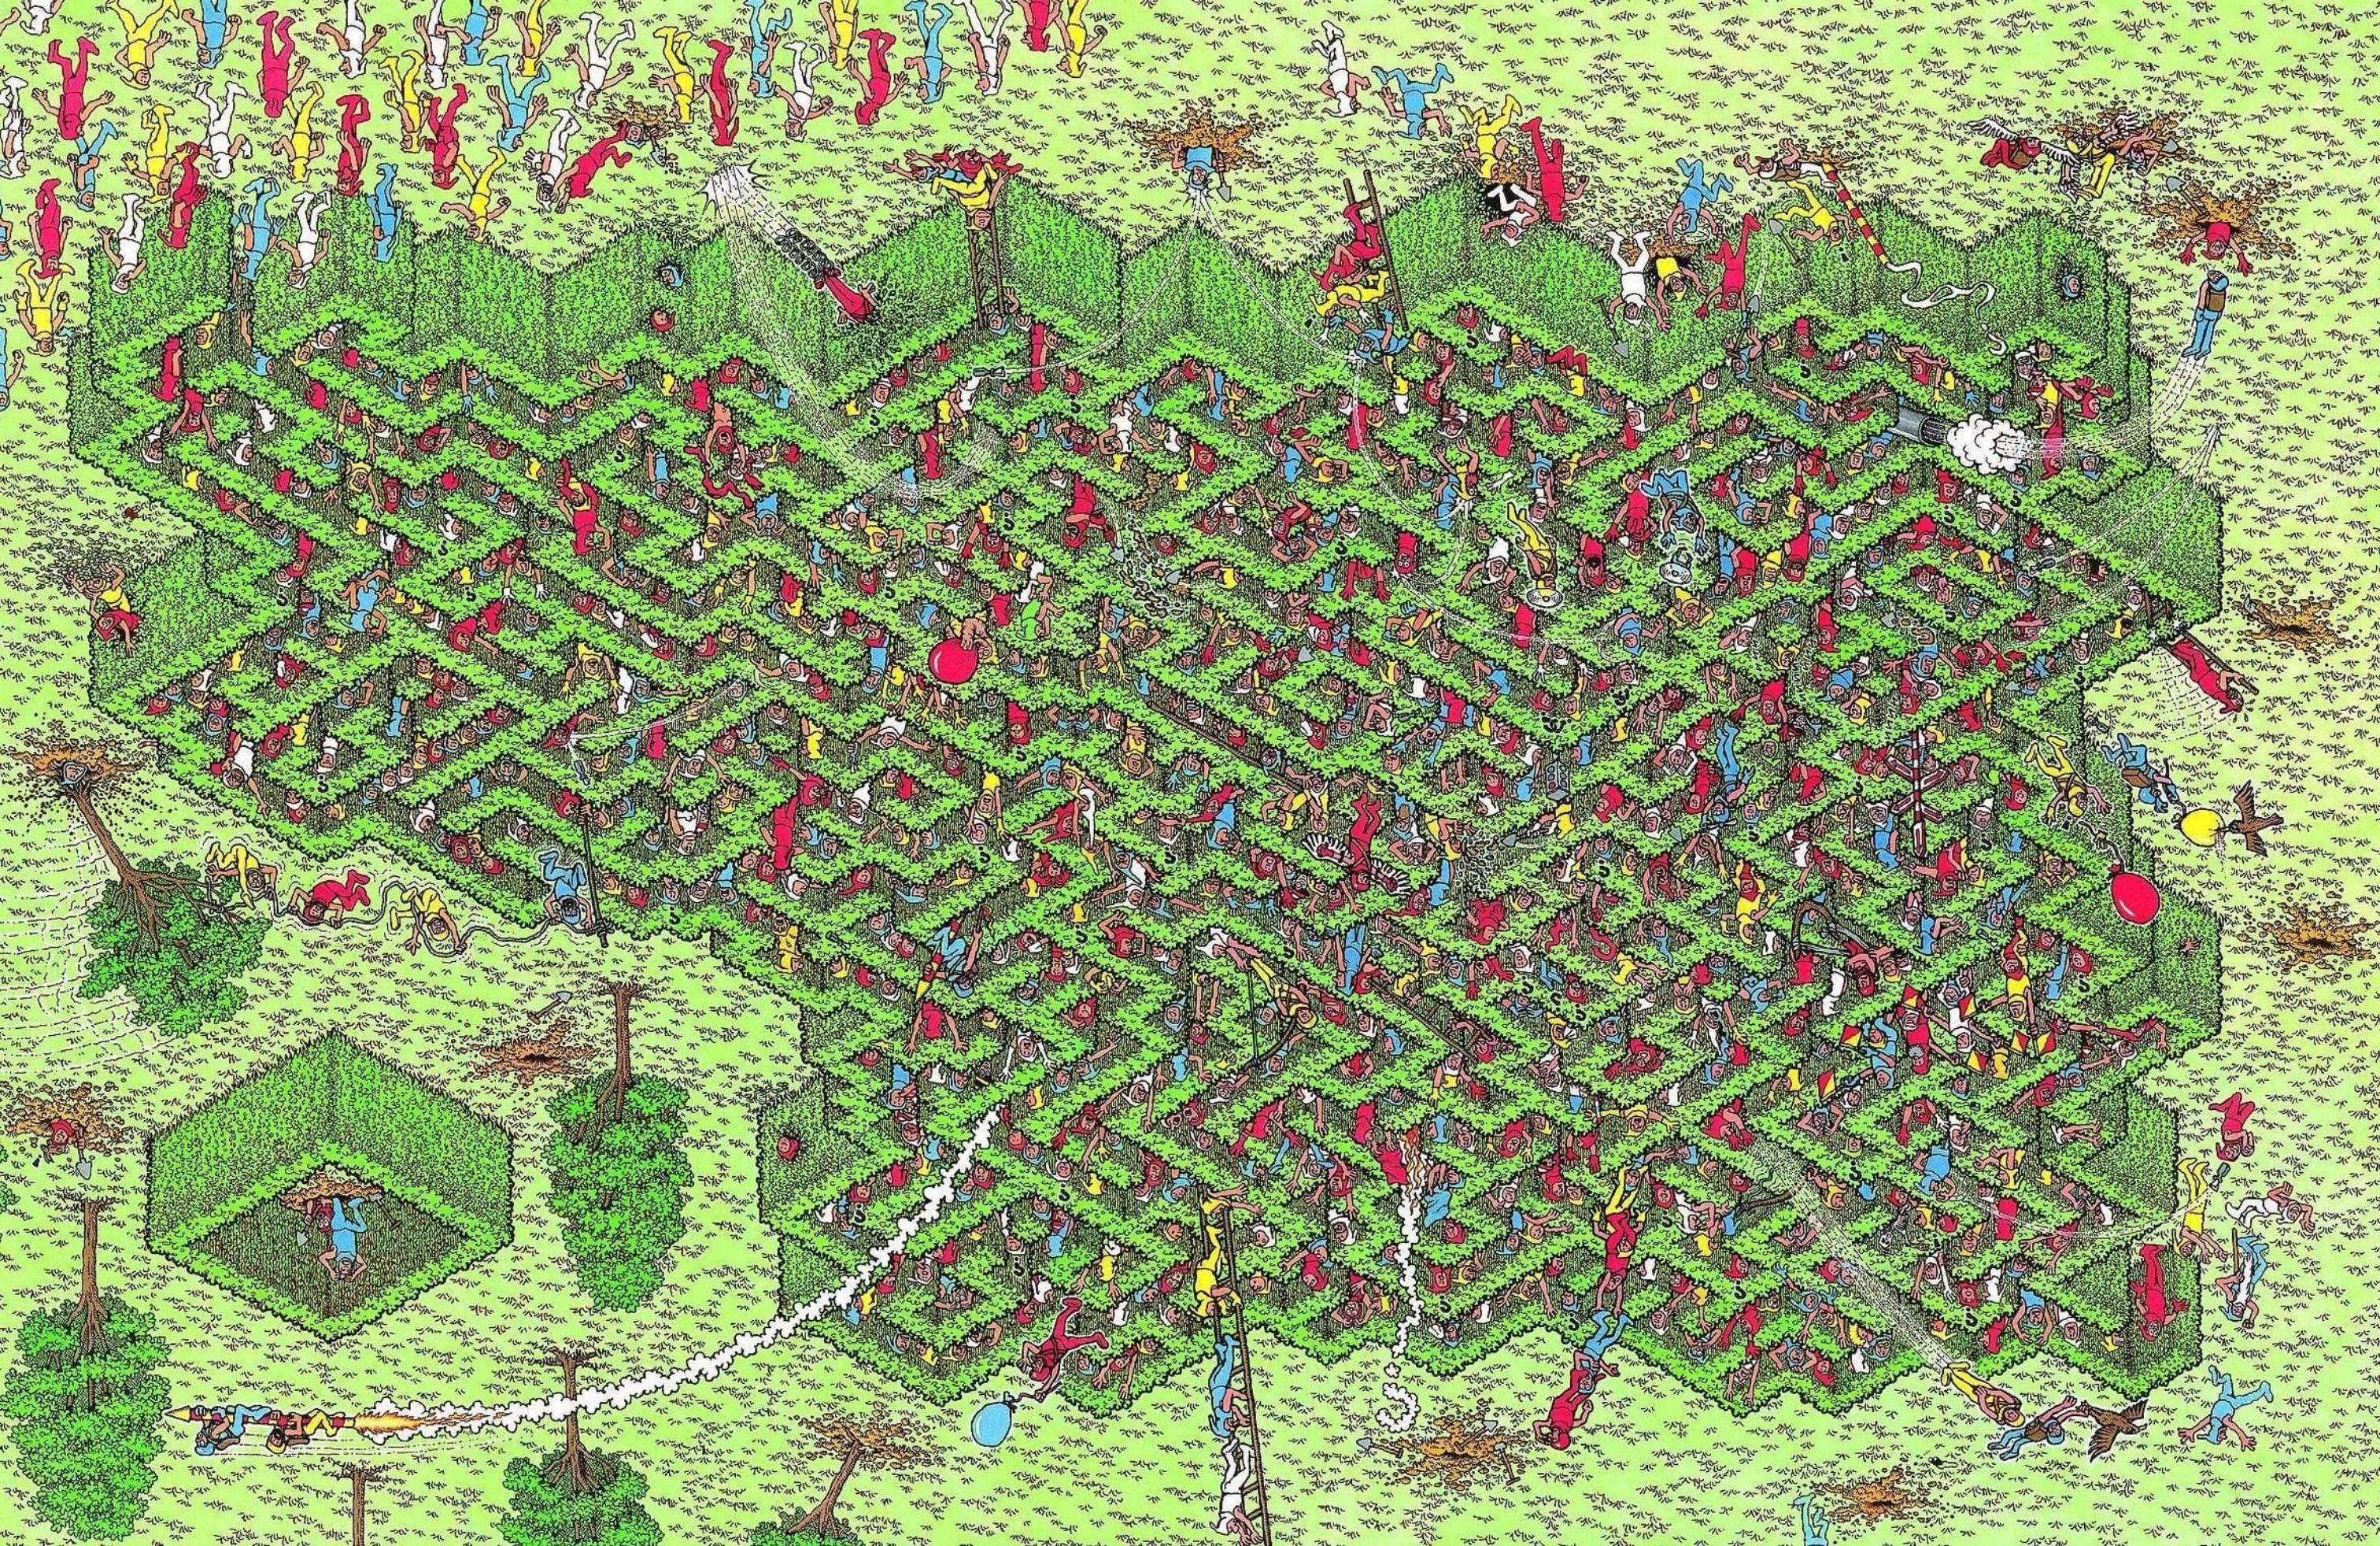waldos: (1291, 869, 1310, 901)
